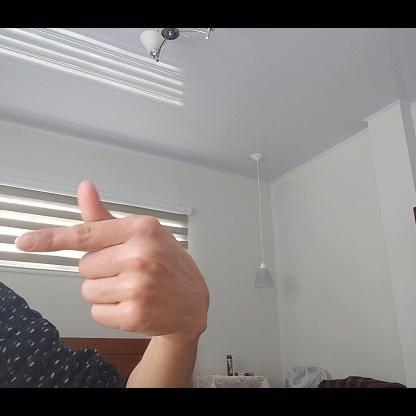T: (13, 176, 211, 344)
